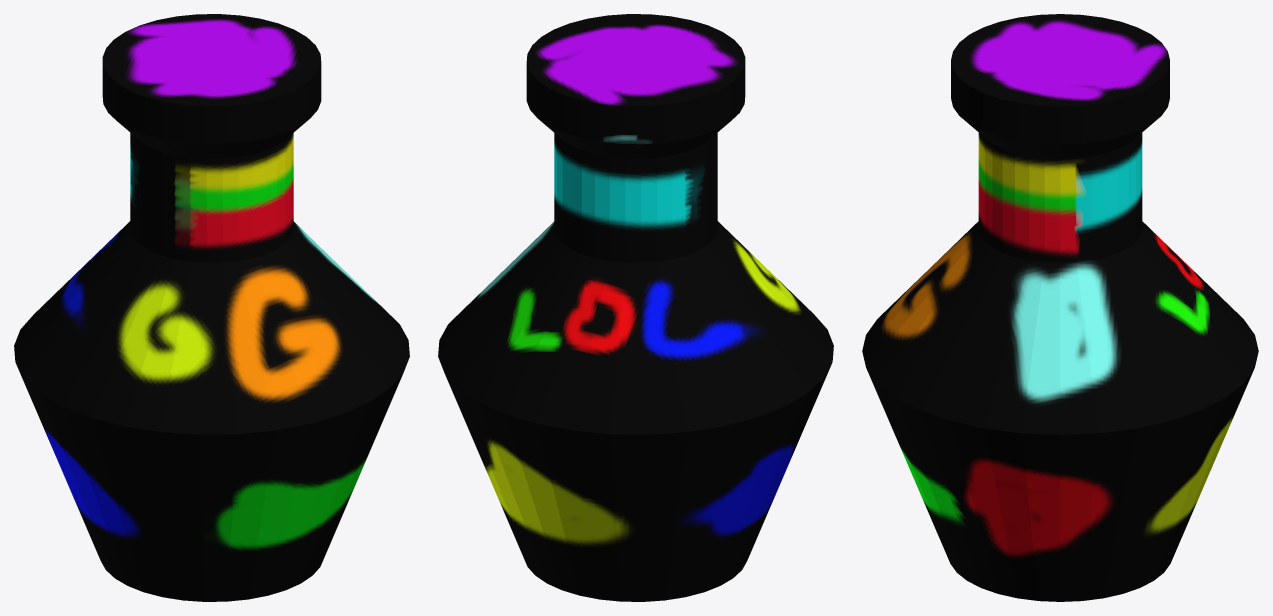
The model's file is urn.fbx.
3 views of the same model, side by side, from view 1: azimuth 30°, elevation 25°; view 2: azimuth 150°, elevation 25°; view 3: azimuth 270°, elevation 25° (orthographic).
Visible parts, largest first — view 1: Cylinder; view 2: Cylinder; view 3: Cylinder.
Boxes of the visible parts, box(x1,y1,x2,y2) form: Cylinder: box(14, 14, 409, 601); Cylinder: box(438, 14, 833, 601); Cylinder: box(862, 14, 1258, 601).
Size of the model in its own units: 420 by 420 by 577.
